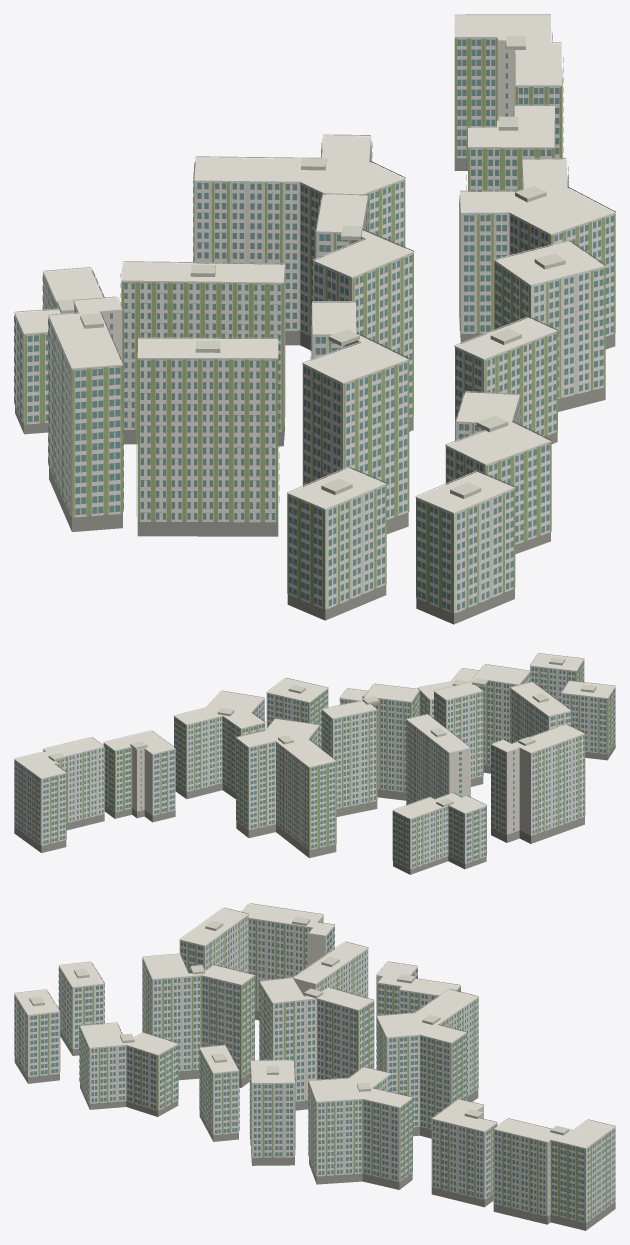
Rendered from representative-a10026470.glb.
3 views of the same model, one above another, from view 1: azimuth 30°, elevation 25°; view 2: azimuth 150°, elevation 25°; view 3: azimuth 270°, elevation 25° (orthographic). The views are drawn at different scales.
Parts seen in each view (by area): view 1: A10026470_trim001, A10026470_wall001, A10026470_glass001, A10026470_accent001, A10026470_base001, A10026470_roof001; view 2: A10026470_trim001, A10026470_wall001, A10026470_glass001, A10026470_accent001, A10026470_base001, A10026470_roof001; view 3: A10026470_trim001, A10026470_wall001, A10026470_glass001, A10026470_accent001, A10026470_base001, A10026470_roof001.
Boxes of the visible parts, left/top/right/bottom form: A10026470_trim001: left=14, top=14, right=615, bottom=612; A10026470_wall001: left=15, top=15, right=615, bottom=613; A10026470_glass001: left=14, top=39, right=613, bottom=610; A10026470_accent001: left=17, top=38, right=615, bottom=613; A10026470_base001: left=15, top=158, right=615, bottom=624; A10026470_roof001: left=57, top=36, right=565, bottom=498; A10026470_trim001: left=14, top=653, right=615, bottom=868; A10026470_wall001: left=14, top=653, right=615, bottom=869; A10026470_glass001: left=14, top=661, right=615, bottom=867; A10026470_accent001: left=18, top=660, right=615, bottom=869; A10026470_base001: left=14, top=743, right=615, bottom=874; A10026470_roof001: left=48, top=657, right=596, bottom=806; A10026470_trim001: left=14, top=903, right=615, bottom=1222; A10026470_wall001: left=14, top=904, right=615, bottom=1222; A10026470_glass001: left=14, top=916, right=615, bottom=1220; A10026470_accent001: left=14, top=918, right=610, bottom=1222; A10026470_base001: left=14, top=1011, right=615, bottom=1230; A10026470_roof001: left=29, top=916, right=569, bottom=1135.
Size of the model in its own units: 213 by 49 by 238.
